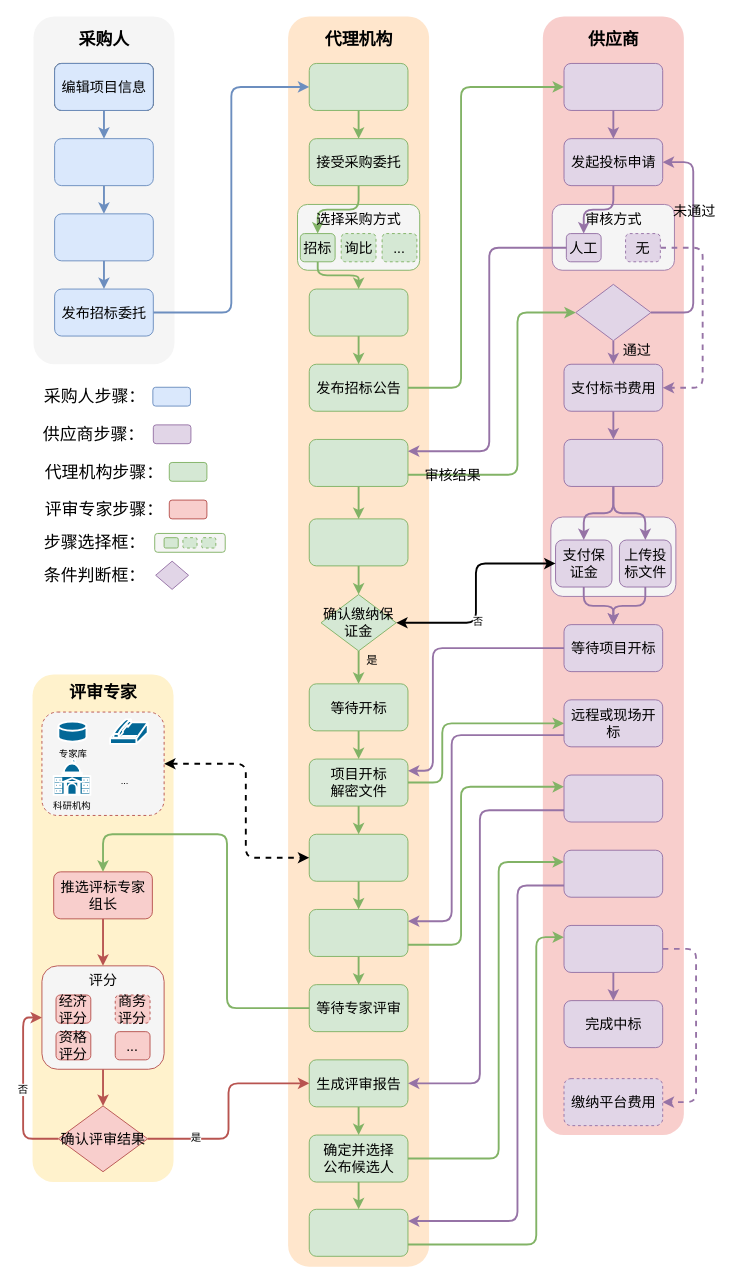
The diagram is 731 pixels wide and 1282 high, and some of its shapes have lost their labels. The centre of each missing label's shape, as x and y in pixels:
上传采购文档: the point at 103,162
下载查看招标文件: the point at 613,462
专家组建: the point at 358,857
内部库: the point at 128,731
审核投标: the point at 358,462
开始评标: the point at 358,932
接收中标结果通知: the point at 613,948
接收候选人公示通知: the point at 613,873
查看委托信息: the point at 358,86
确定并选择 公布中标结果: the point at 358,1232
等待审核: the point at 613,312
等待报名截止: the point at 358,542
编辑招标信息: the point at 358,312
远程询标/线上报价: the point at 613,798
选择代理方: the point at 103,237
预览标书: the point at 613,86
